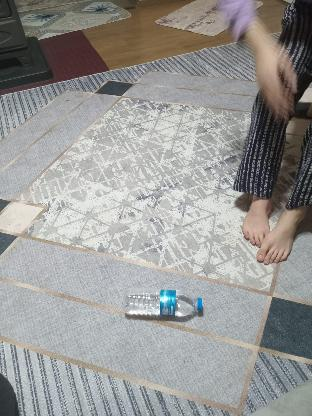Plastic Bottle: (126, 288, 208, 320)
